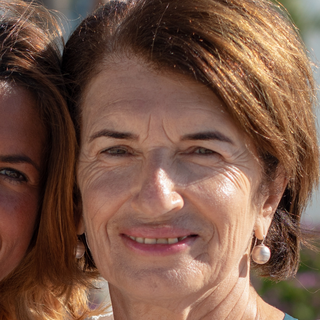eye: (178, 140, 227, 163), (1, 163, 36, 190), (97, 140, 140, 161)
